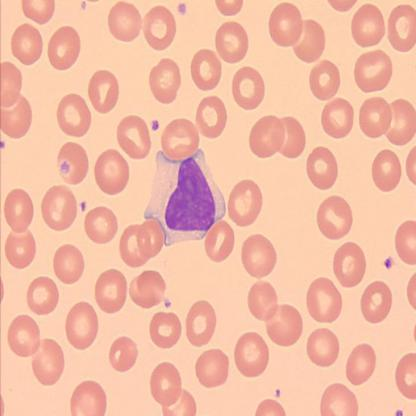Atypical lymphocyte: (144, 150, 228, 240)
